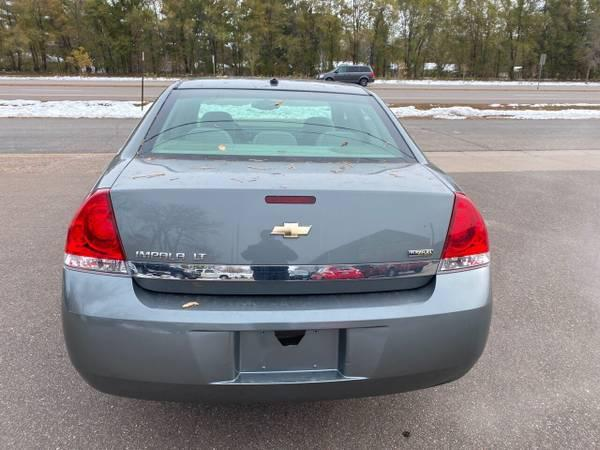Left_Taillight: (64, 190, 128, 274)
Rear_Bumper: (63, 266, 492, 403)
Rear_Windshield: (125, 92, 424, 164)
Right_Taillight: (436, 193, 492, 273)
Roof: (166, 75, 374, 95)
Tailgate: (93, 161, 457, 299)
